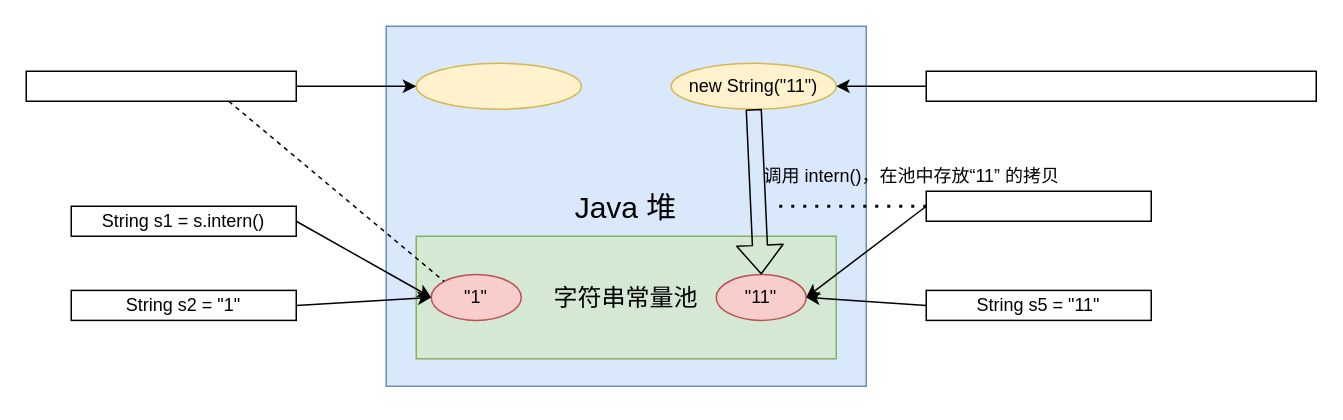
This 1343x420 diagram has some shape labels left out. The centre of each missing label's shape, as x and y in pixels:
new String("1"): point (498, 85)
String s = new String（"1"): point (160, 85)
String s3 = new String（"1") + new String（"1"): point (1120, 85)
String s4 = s3.intern(): point (1038, 205)
